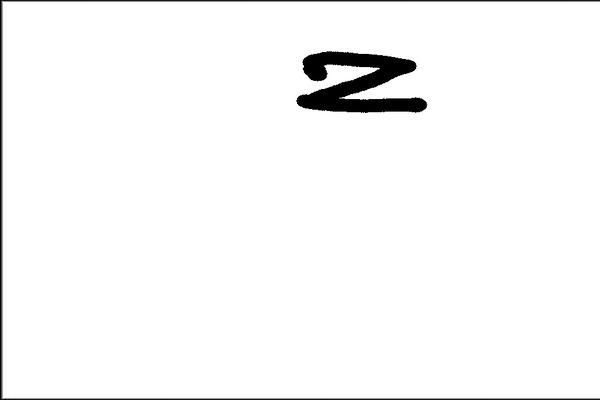Z: (292, 38, 438, 121)
